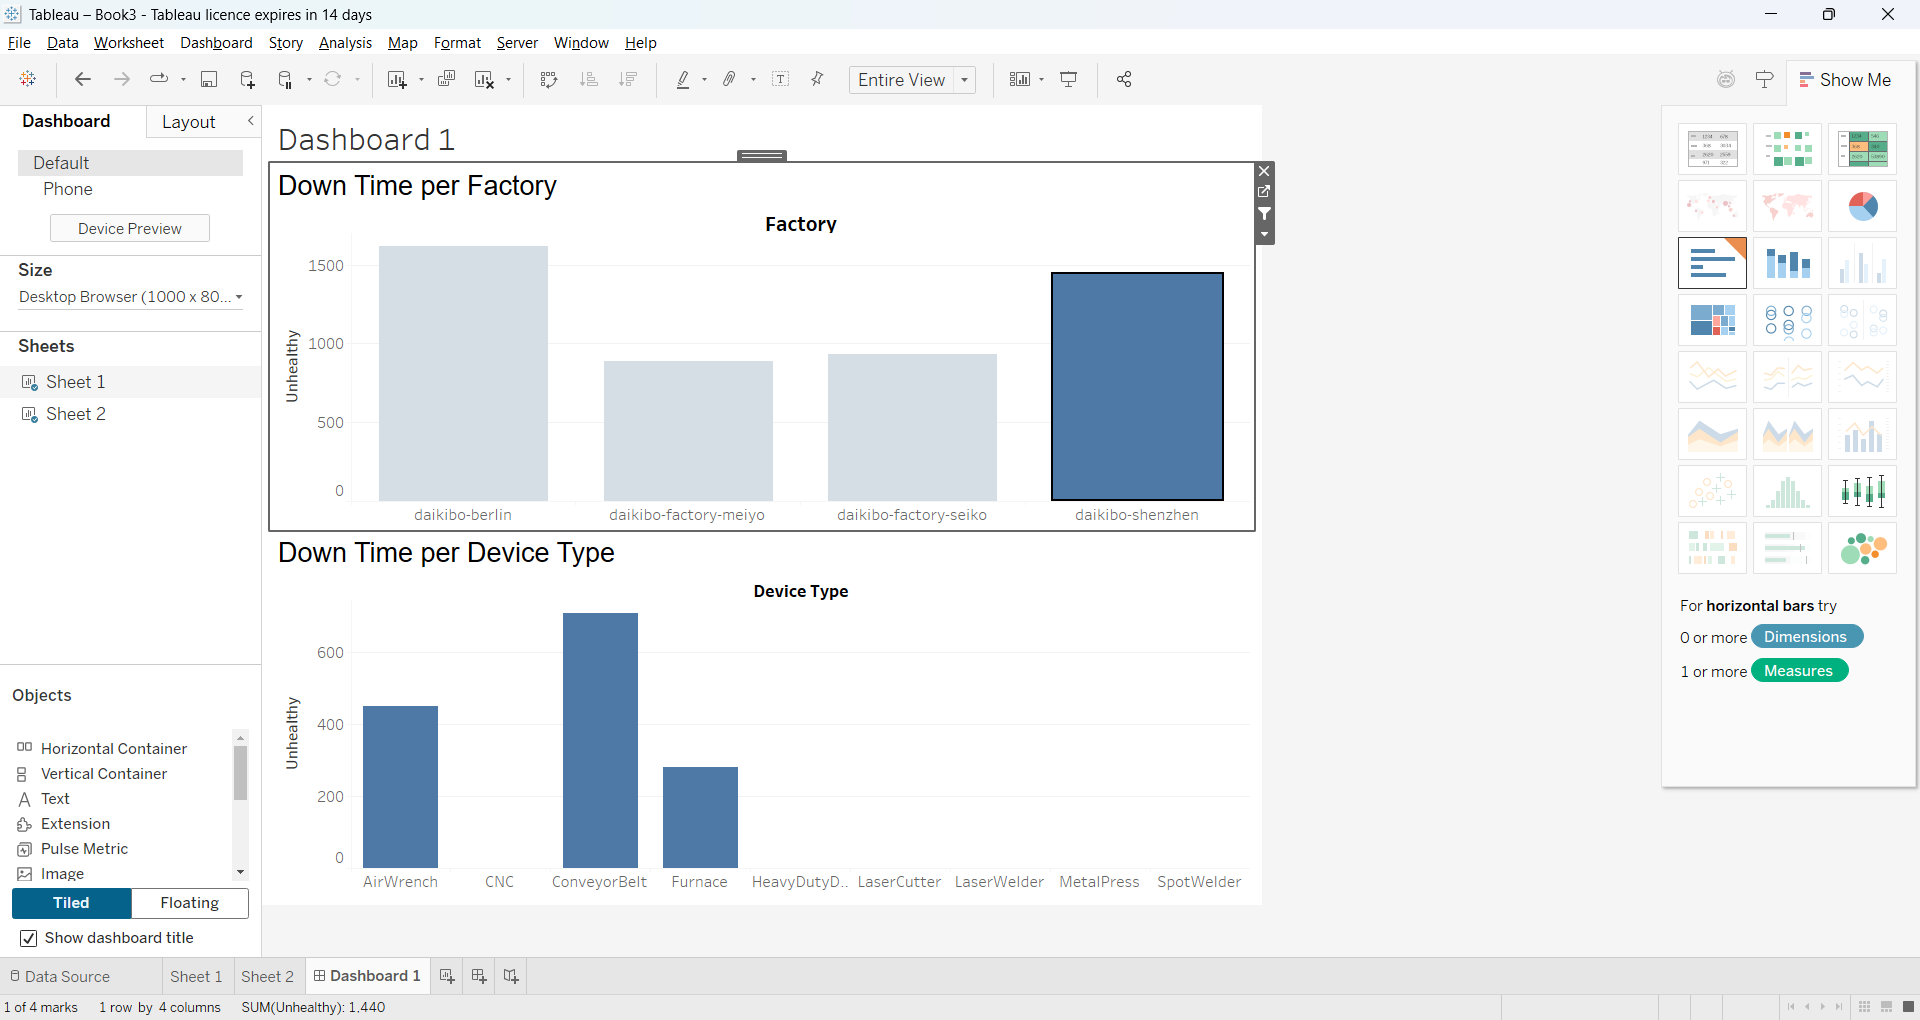

The dashboard page shown, as its layout file describes it:
{"tool":"tableau","page":{"name":"Dashboard 1","canvas":[1000,800],"ordinal":0},"visuals":[{"type":"title","box":[8,8,984,50]},{"type":"worksheet","title":"Sheet 1","mark":"Bar","rows":["Calculation_79657425347842050"],"cols":["factory"],"box":[8,58,984,367]},{"type":"worksheet","title":"Sheet 2","mark":"Automatic","rows":["Calculation_79657425347842050"],"cols":["deviceType"],"box":[8,425,984,367]}]}

Visuals, with their boxes on the page's 1000x800 design canvas (x1, y1, x2, y2). These are canvas units, not pixel positions in the 1920x1020 screenshot, which may show the page scaled, cropped or inside an application window:
title: 8/8/992/58
"Sheet 1" worksheet (Bar marks): 8/58/992/425
"Sheet 2" worksheet: 8/425/992/792
